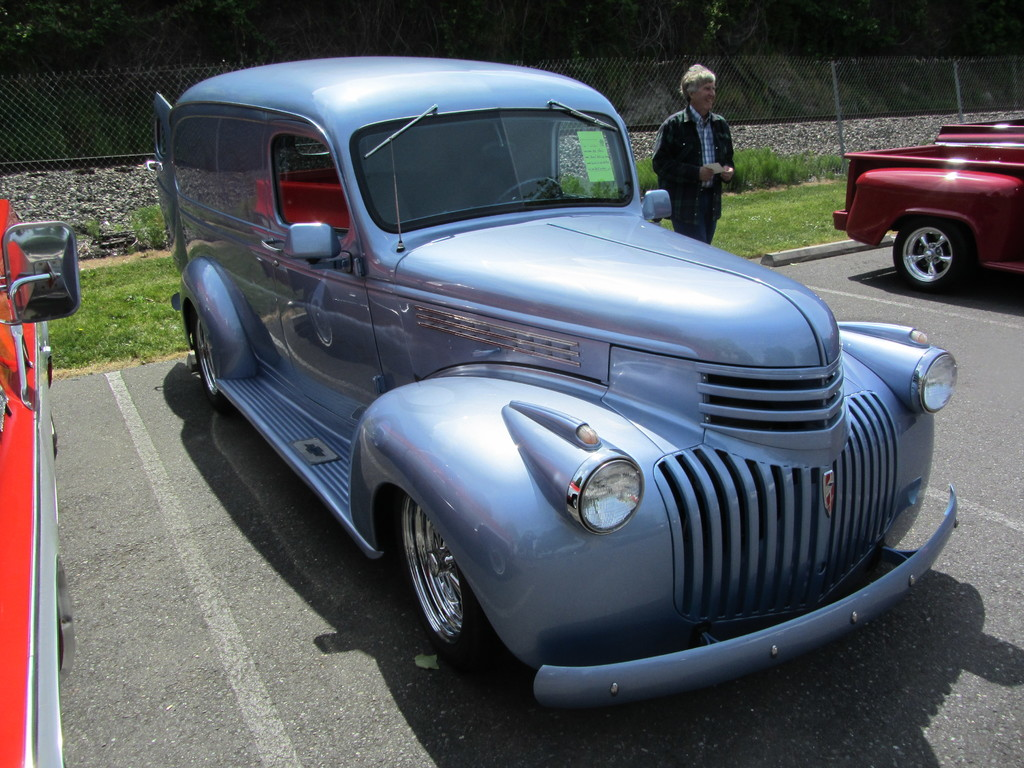Car: (153, 50, 964, 710), (0, 186, 76, 767), (824, 115, 1023, 298)
